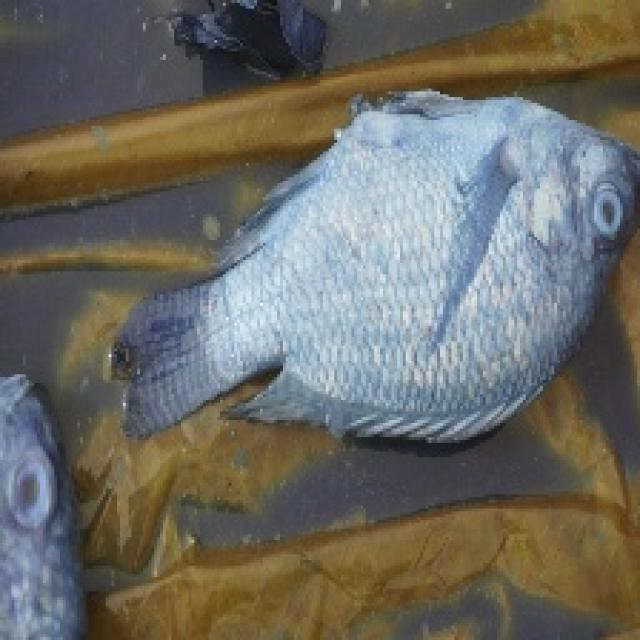Non-Fresh: (277, 94, 640, 394), (571, 170, 640, 267)
